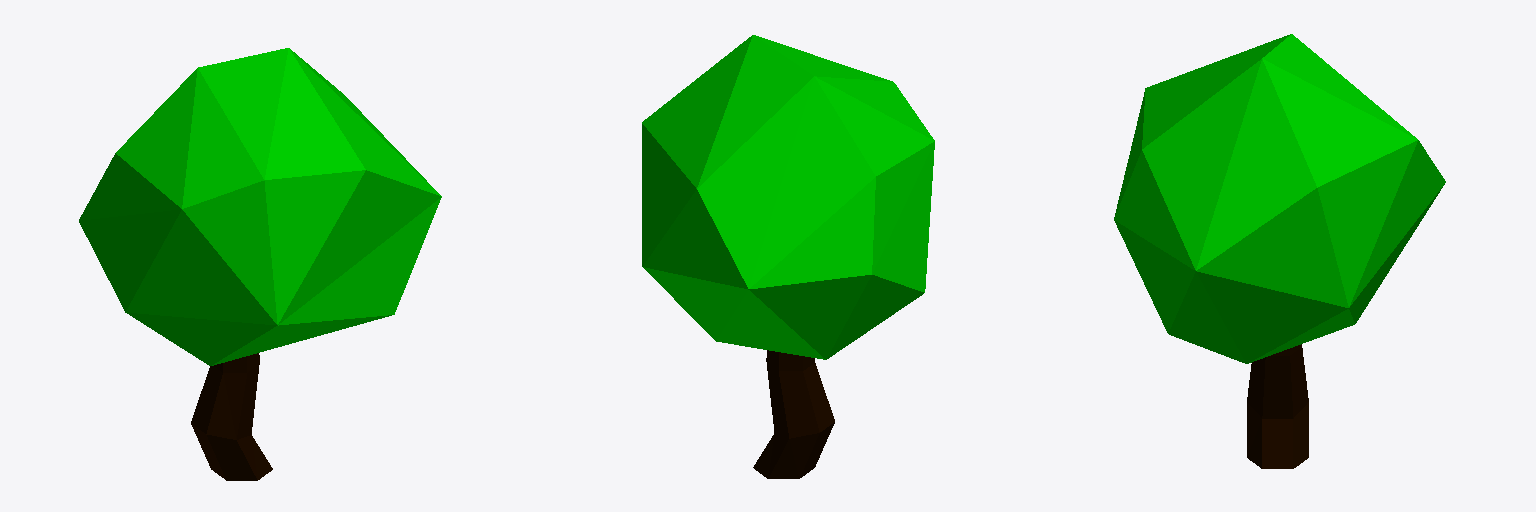
The model's file is tree.obj.
The picture shows the model from 3 angles: view 1: azimuth 30°, elevation 25°; view 2: azimuth 150°, elevation 25°; view 3: azimuth 270°, elevation 25°; orthographic projection.
Visible parts, largest first — view 1: Icosphere; view 2: Icosphere; view 3: Icosphere.
Part boxes in pixels (bbox=[...]): Icosphere: bbox=[79, 48, 441, 480]; Icosphere: bbox=[642, 35, 934, 478]; Icosphere: bbox=[1114, 34, 1445, 468].
Size of the model in its own units: 1.07 by 1.49 by 1.07.